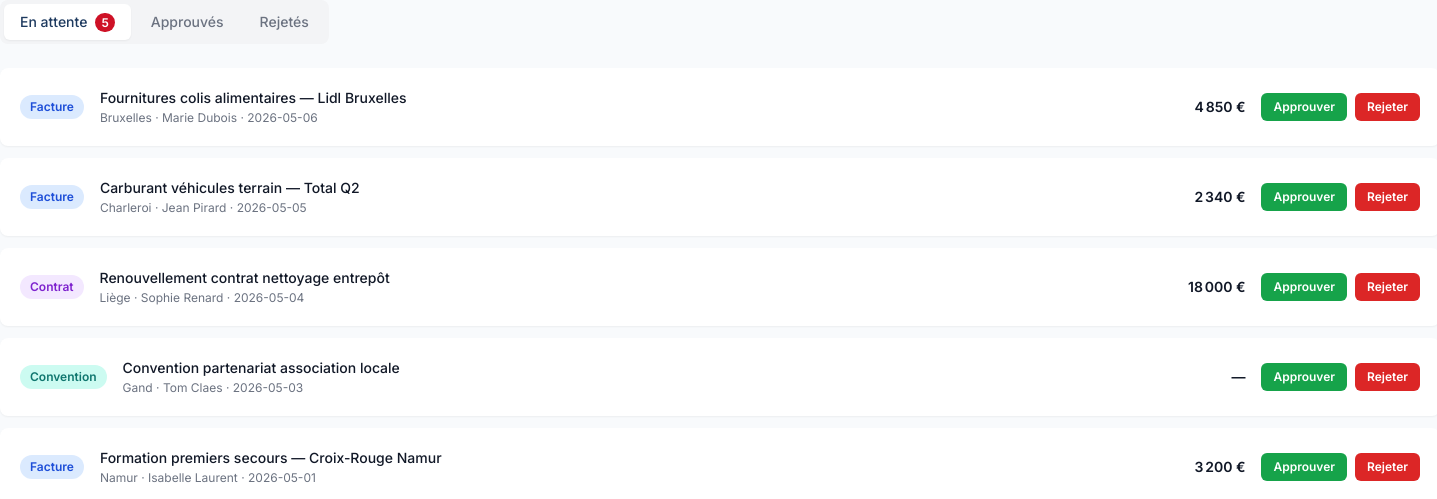
Test case: ValidationWorkflow › moves a document to Rejetés tab after clicking Rejeter
Click the button "Rejeter" in the row of "4 850 €".
click(1388, 107)  # box left=1355, top=93, right=1420, bottom=121
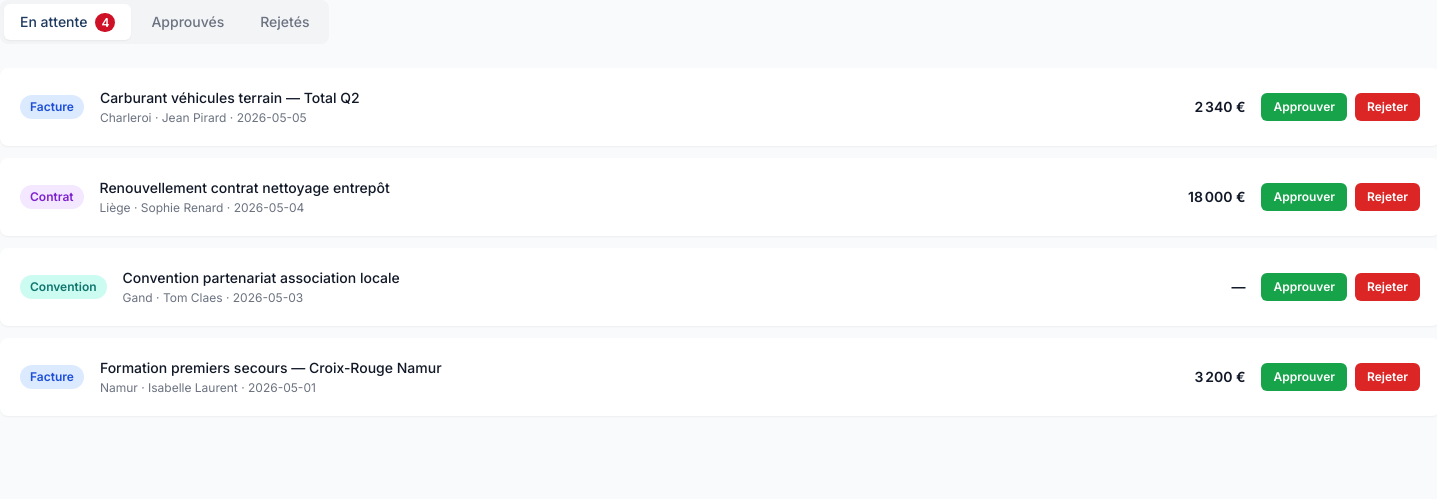
Click the button "Rejetés".
click(285, 22)  # box left=244, top=4, right=326, bottom=40
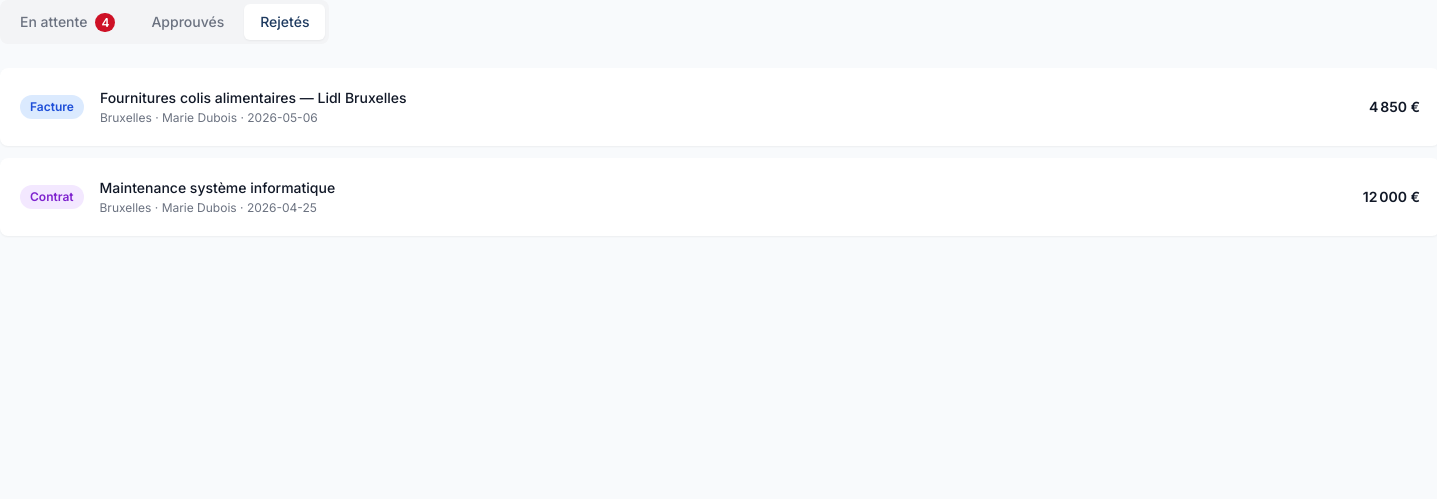
expect the text "Fournitures colis alimentaires — Lidl Bruxelles" is shown: met, box left=100, top=89, right=406, bottom=106
